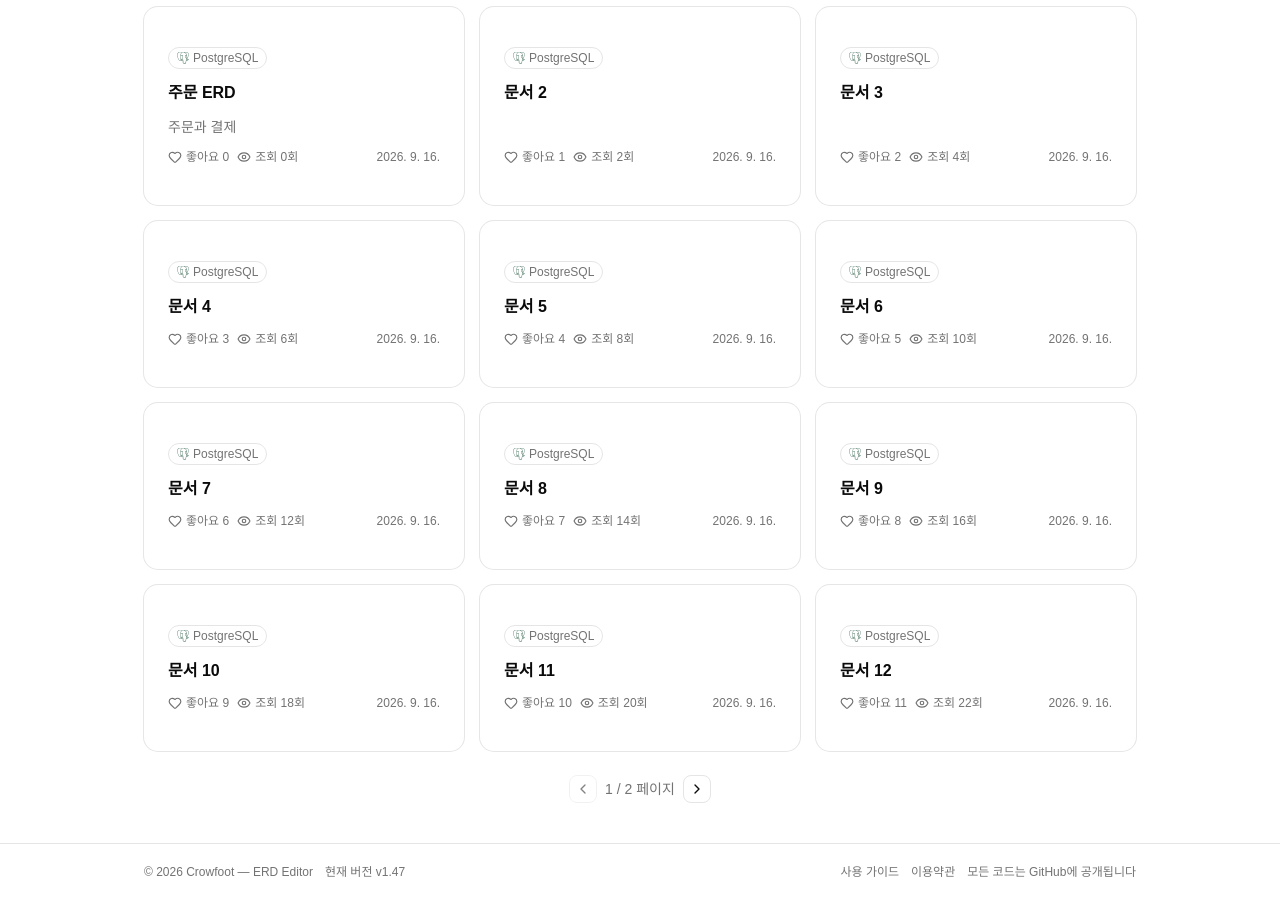
Test case: 공유 문서 목록 › 다음 페이지로 넘기면 그 페이지를 요청한다
(page scrolled)
Check: the navigation bar with test id "shared-pager" reads "1 / 2 페이지", box [605,781,675,797]
Check: the button named "이전" is disabled, box [569,775,597,803]
Click the button named "다음" at coordinates (697, 789), box [683,775,711,803]
(page scrolled)
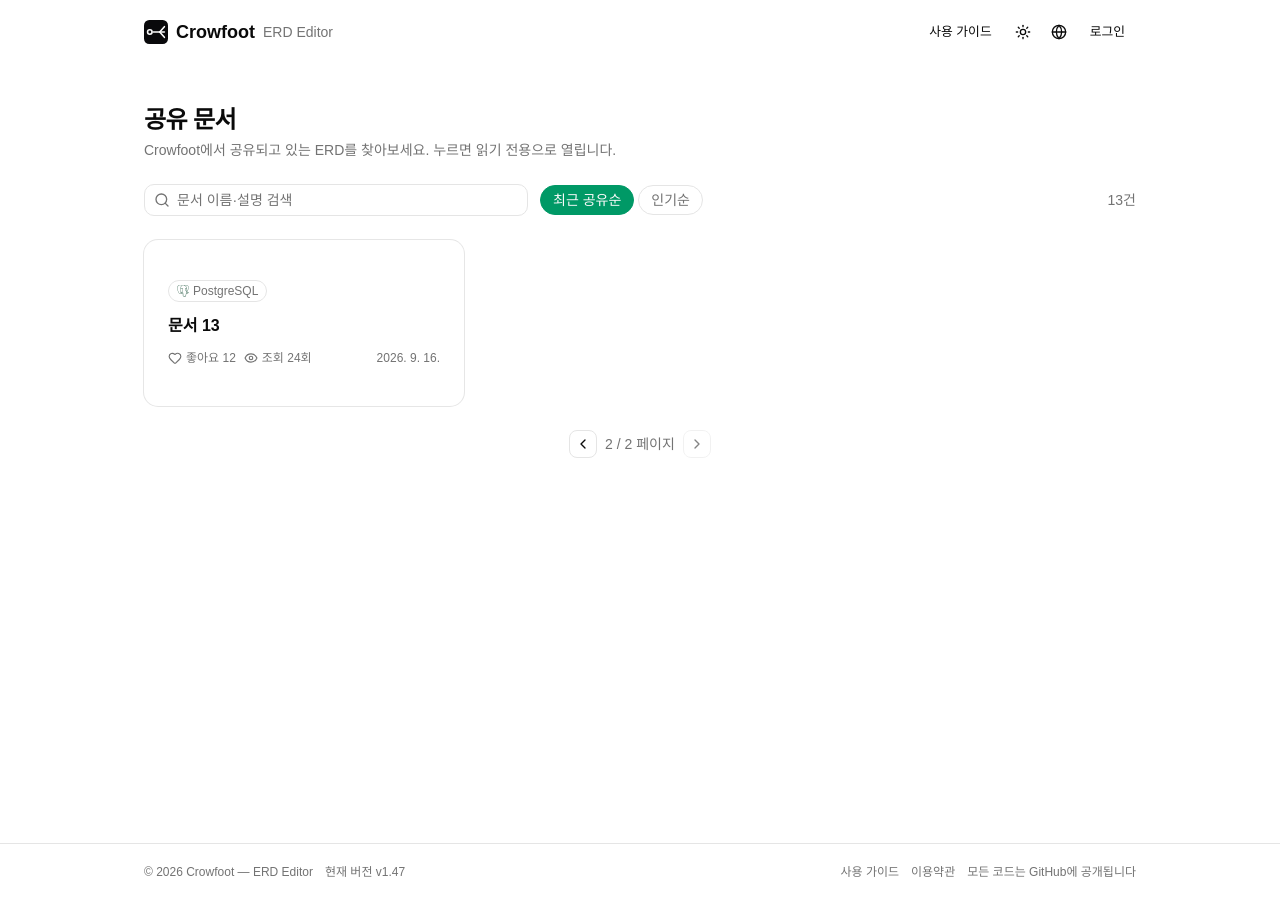
Check: the navigation bar with test id "shared-pager" reads "2 / 2 페이지", box [605,436,675,452]
Check: the number of list items is 1, box [144,240,464,406]
